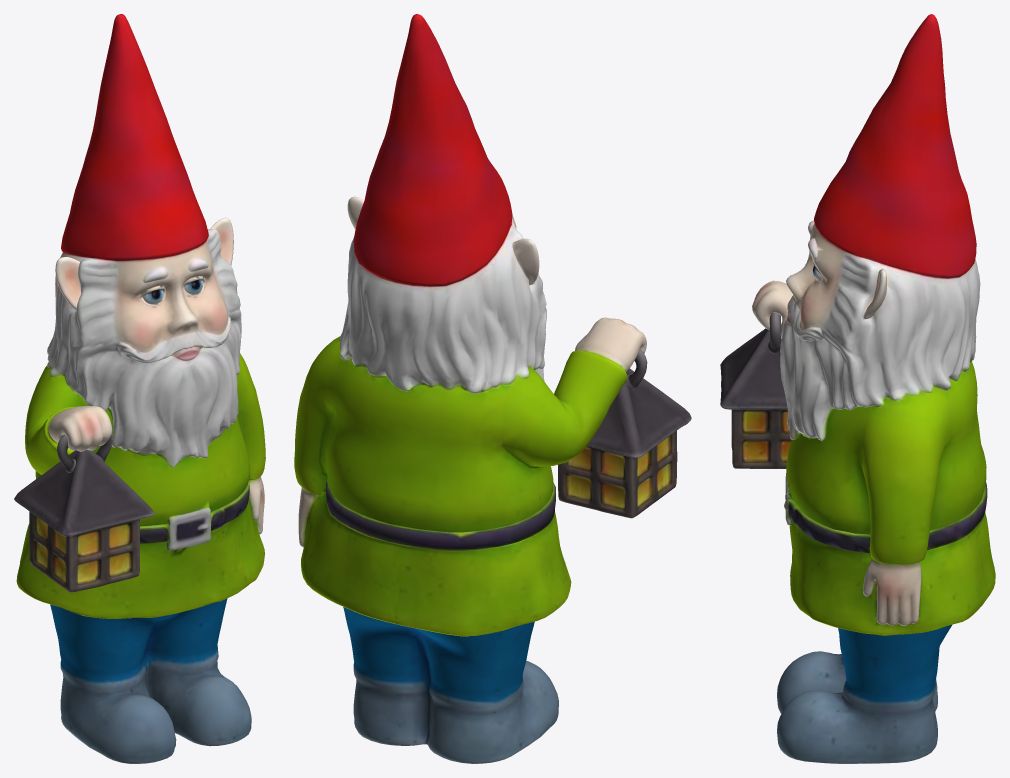
File: garden_gnome.glb
3 views of the same model, side by side, from view 1: azimuth 30°, elevation 25°; view 2: azimuth 150°, elevation 25°; view 3: azimuth 270°, elevation 25° (orthographic). The views are drawn at different scales.
Parts seen in each view (by area): view 1: garden_gnome; view 2: garden_gnome; view 3: garden_gnome.
Part boxes in pixels (x1,y1,x2,y2): garden_gnome: [14, 14, 265, 763]; garden_gnome: [294, 14, 691, 763]; garden_gnome: [720, 14, 995, 763].
Size of the model in its own units: 0.2579 by 0.5991 by 0.2097.
Materials: 1 (1 with a texture image).
